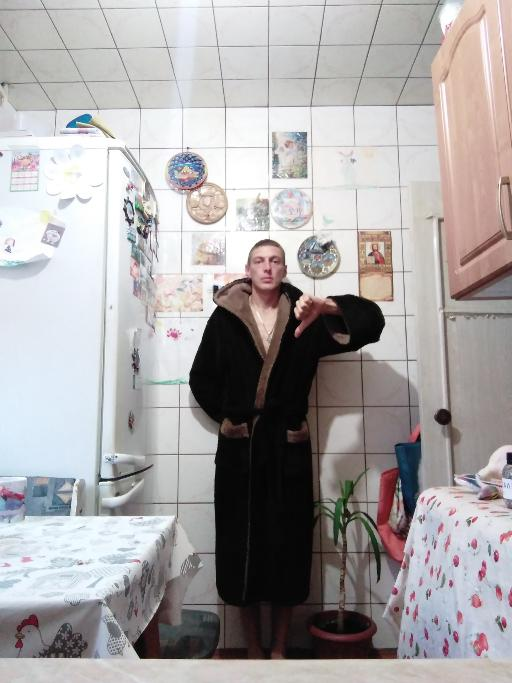dislike: (291, 291, 326, 339)
